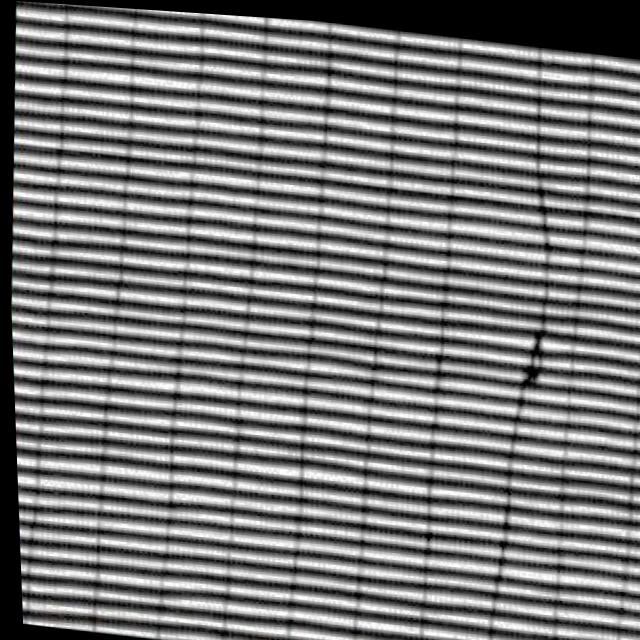Stitch: (457, 161, 584, 469)
